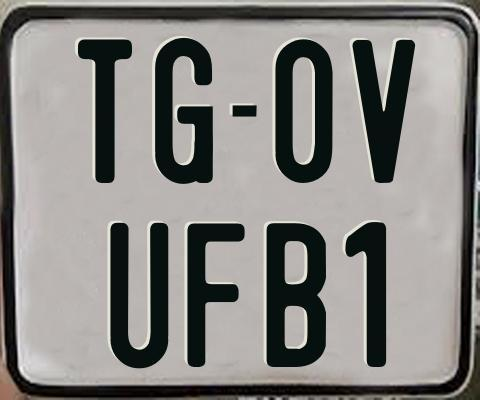0: (272, 37, 330, 182)
1: (344, 220, 388, 370)
B: (266, 222, 329, 366)
F: (186, 221, 250, 369)
G: (152, 38, 213, 190)
T: (77, 36, 131, 184)
U: (109, 220, 172, 371)
V: (349, 39, 416, 183)
